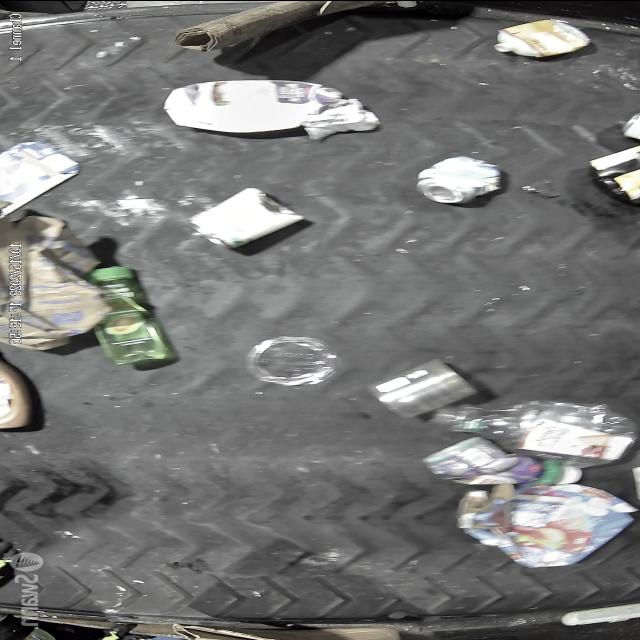can: (183, 188, 310, 250), (376, 356, 479, 416), (422, 438, 540, 486), (405, 152, 505, 208)
milk_jug: (162, 72, 346, 136)
plastic_bottle: (434, 402, 640, 465)
